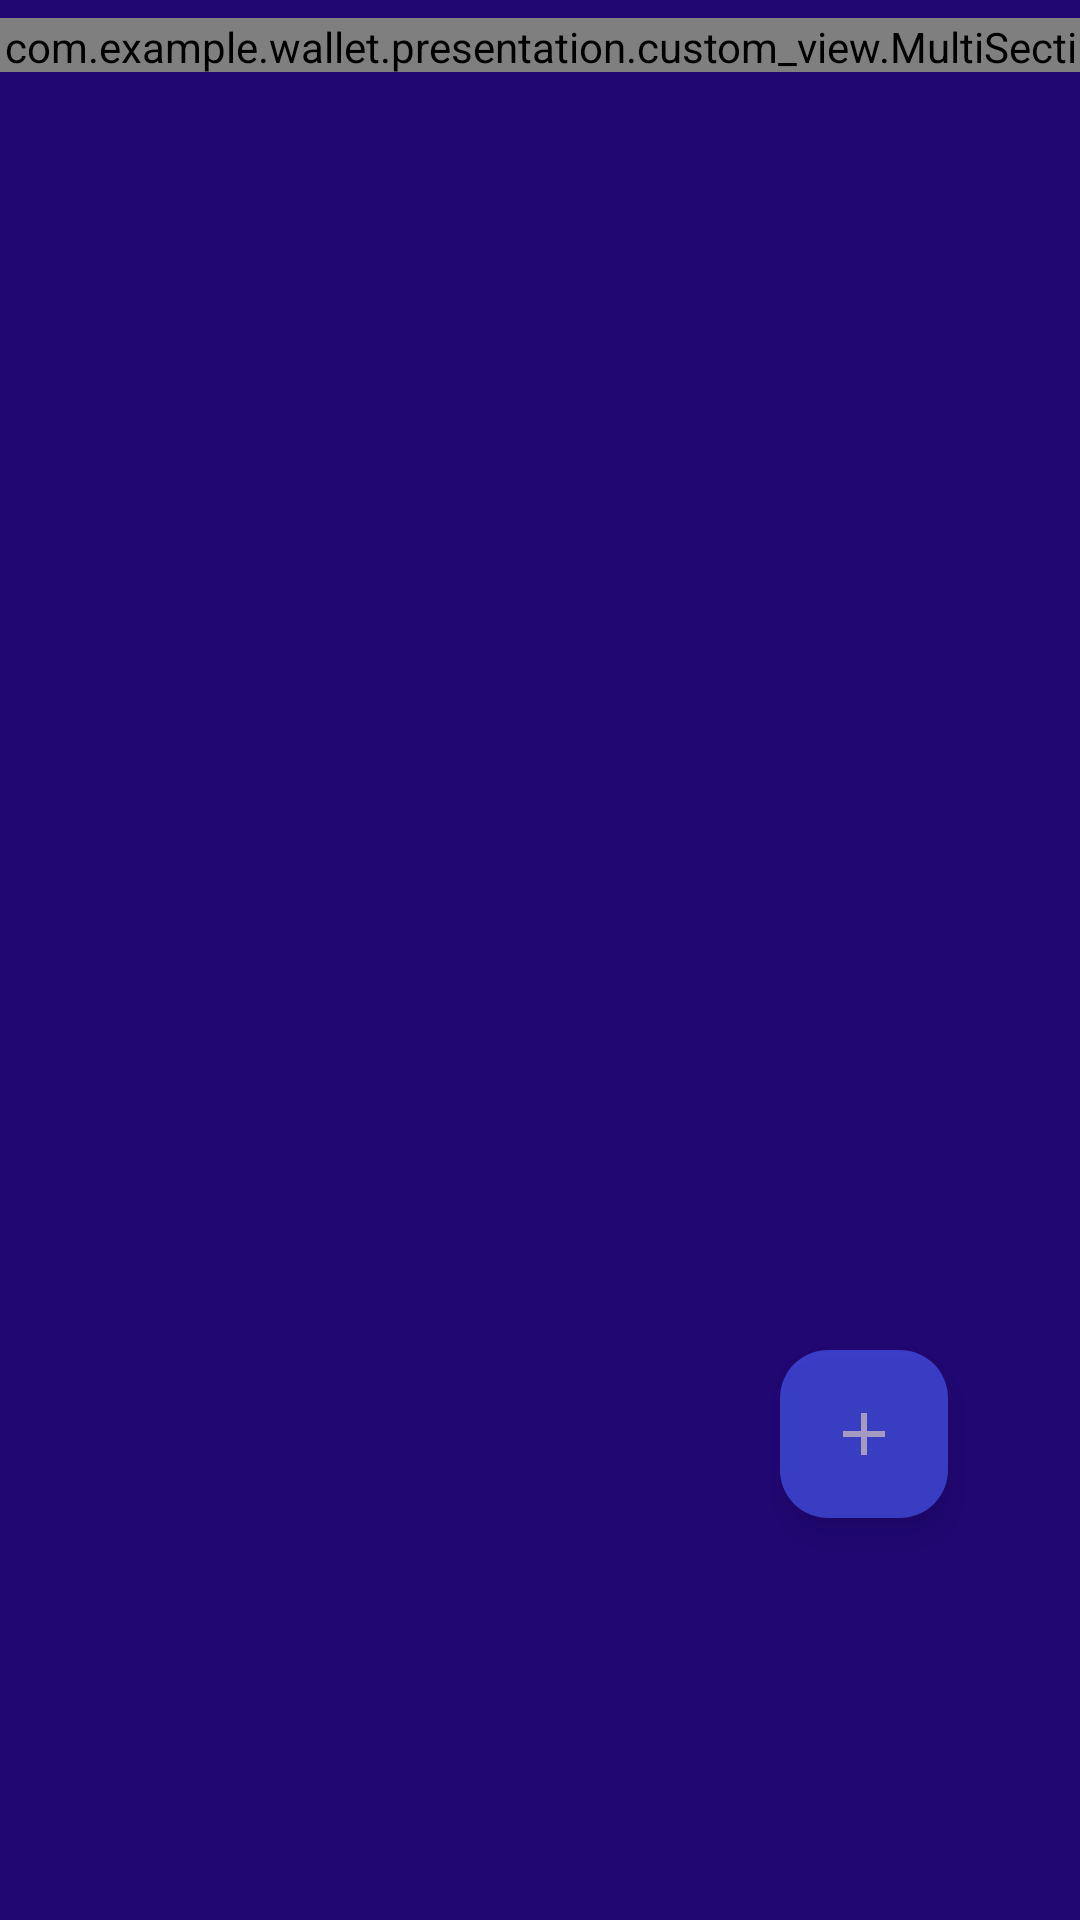

Where to tap for icons on this 1080px x 1920px app screen, as (x,y):
Добавить: (864,1434)
